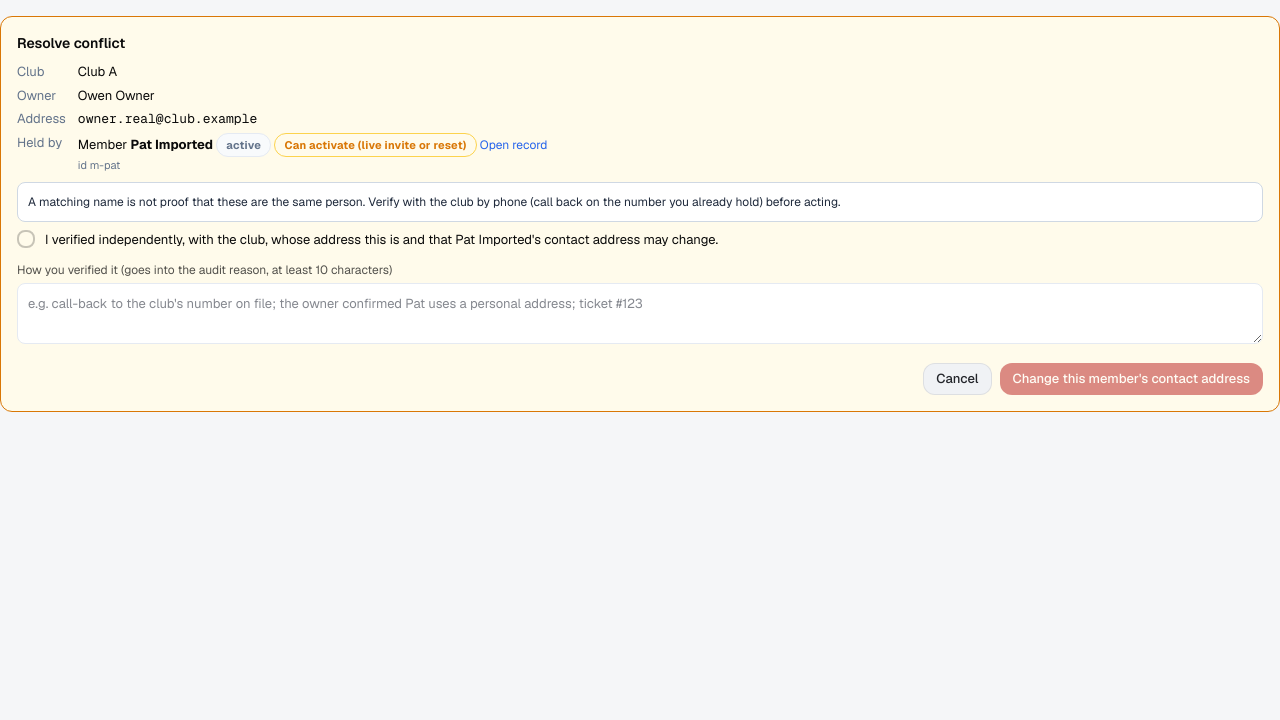
Test: ConflictPanel › lost response: nothing is retried automatically; the operator re-sends the SAME grant (no new code)
Click the checkbox at (26, 238), box [17,230,35,248]
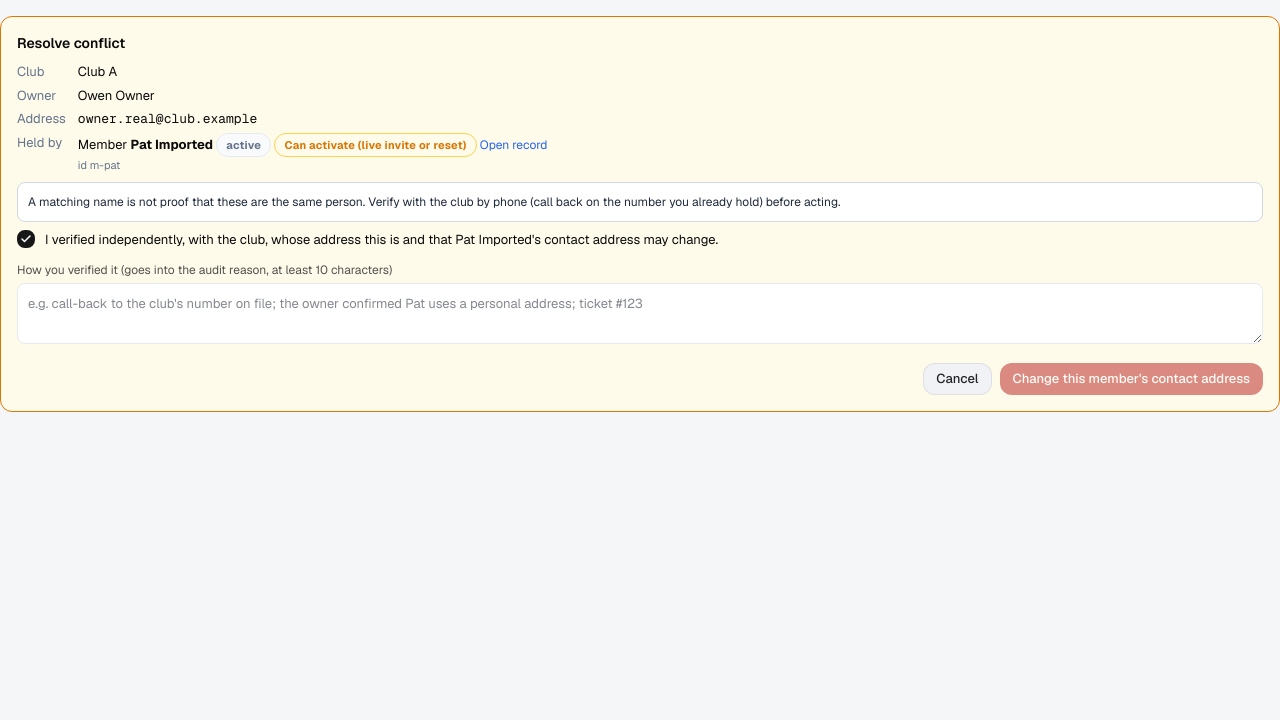
Replace the text in the text box labelled "How you verified it" with "call-back to the club number on file, ticket 41" at (640, 314), box [17,283,1263,344]
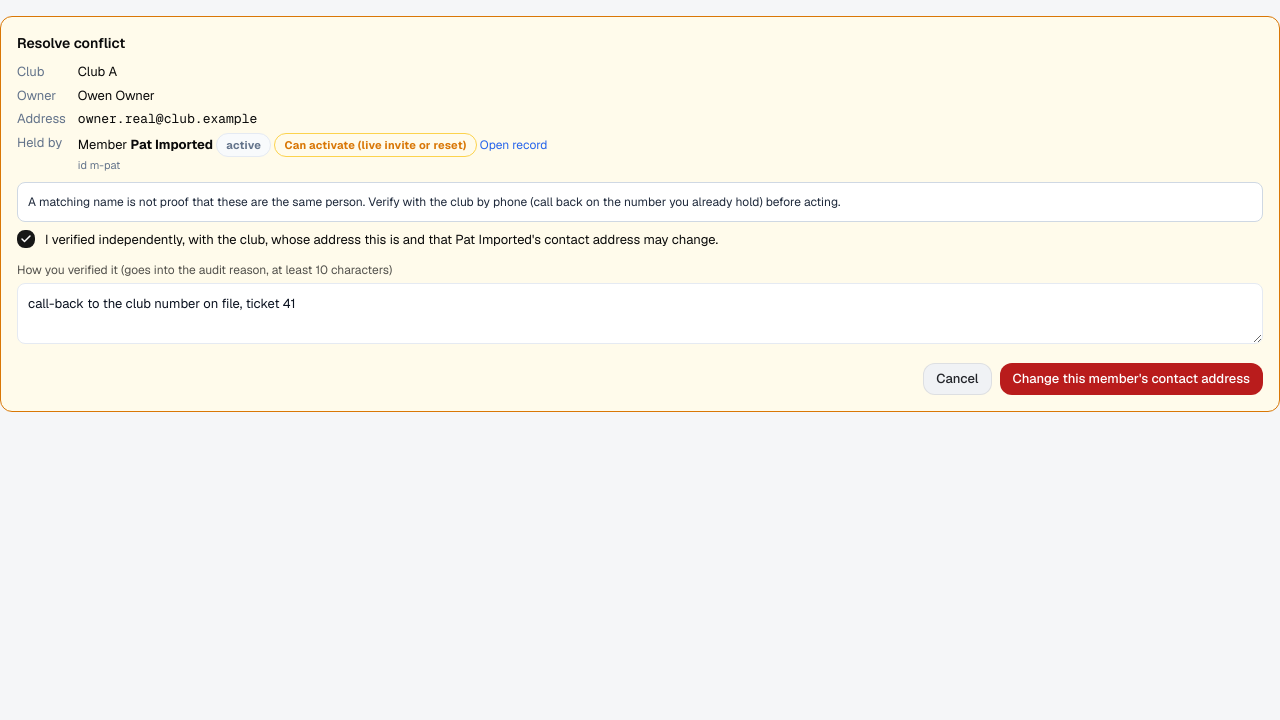
Click the button "Change this member's contact address" at (1131, 379), box [1000,363,1263,395]
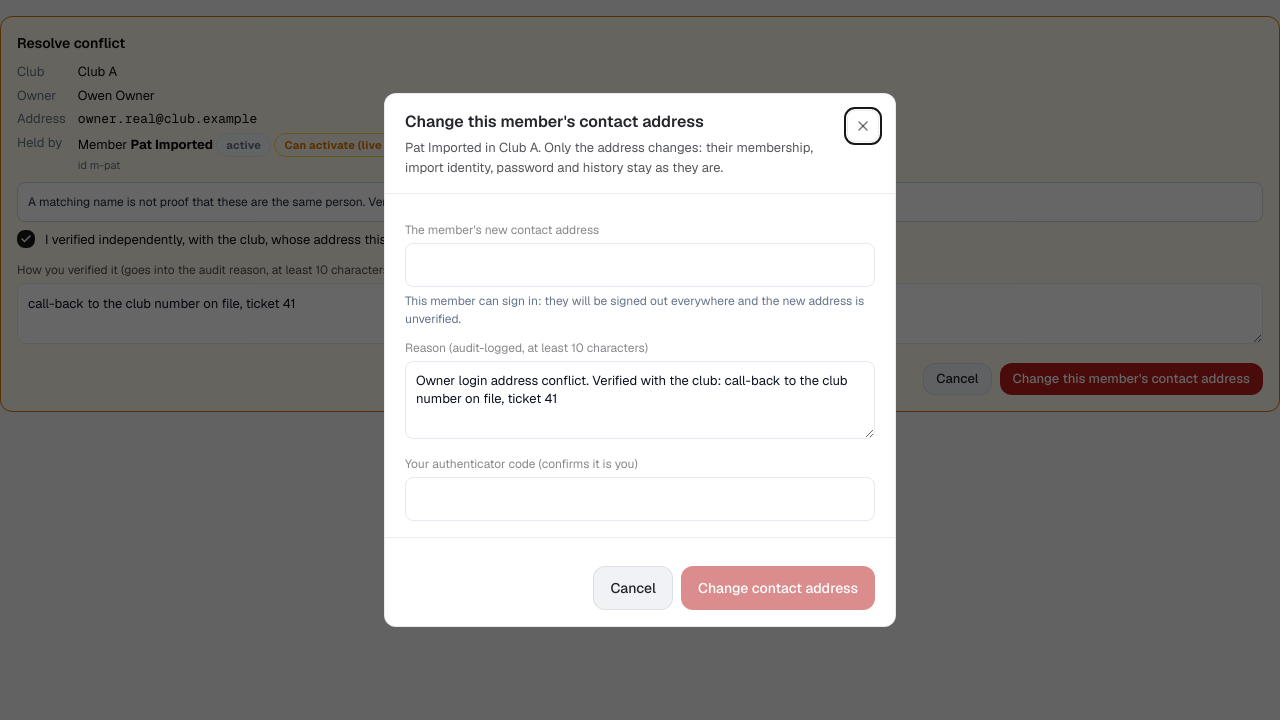
Type "pat.personal@club.example" into the field labelled "The member's new contact address" at (640, 265), box [405,243,875,287]
Type "123456" into the field labelled "Your authenticator code (confirms it is you)" at (640, 499), box [405,477,875,521]
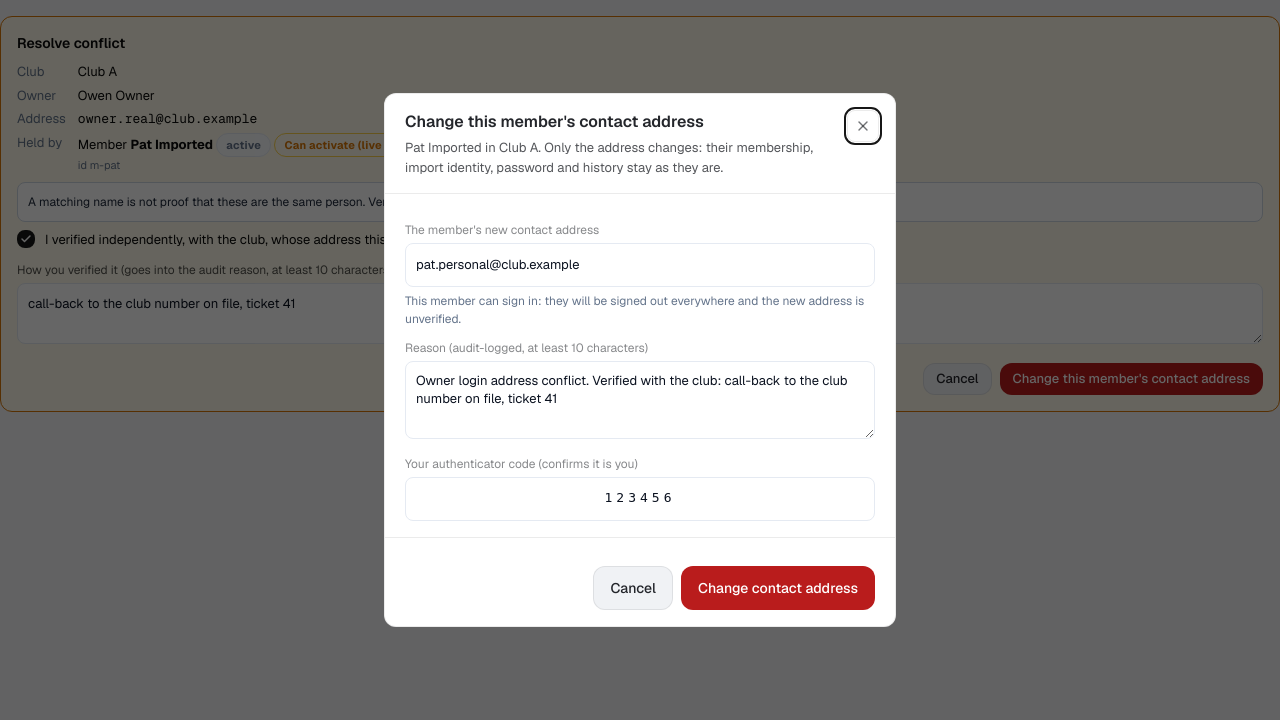
Click the button "Change contact address" at (778, 588), box [681,566,875,610]
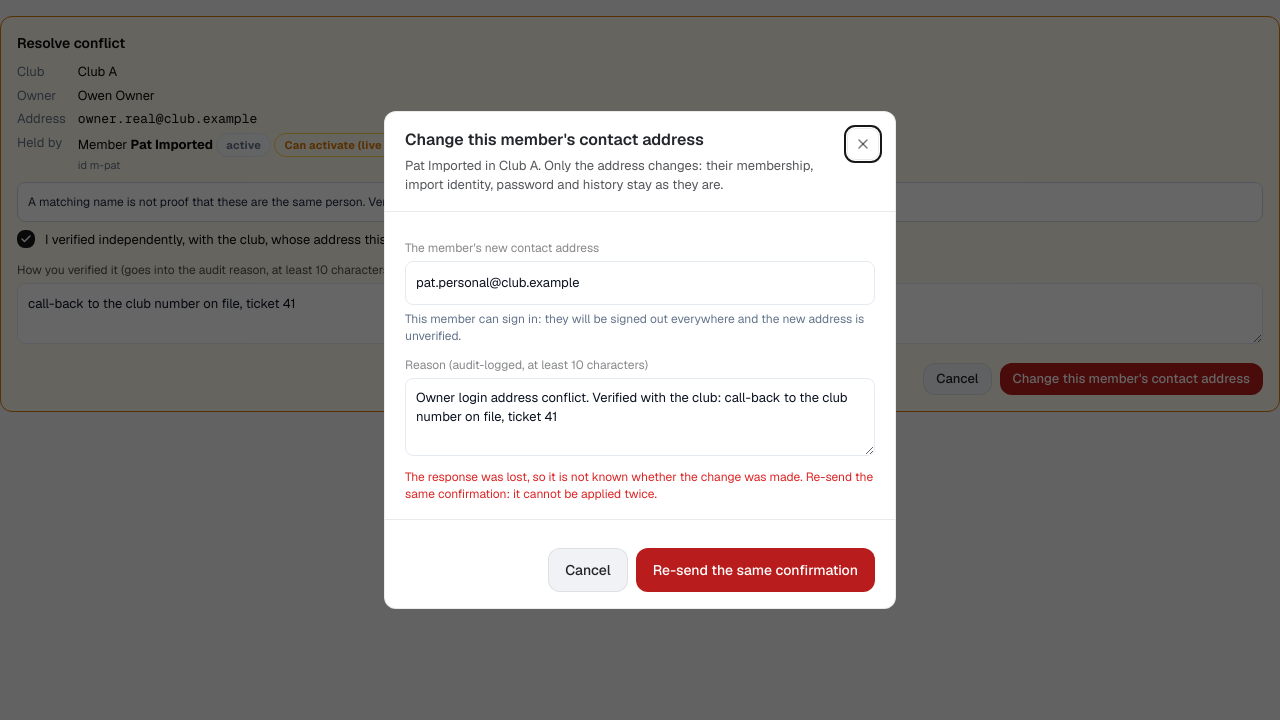
Check: the text "The response was lost" is shown, box [405,469,873,502]
Click the button "Re-send the same confirmation" at (755, 570), box [636,548,875,592]
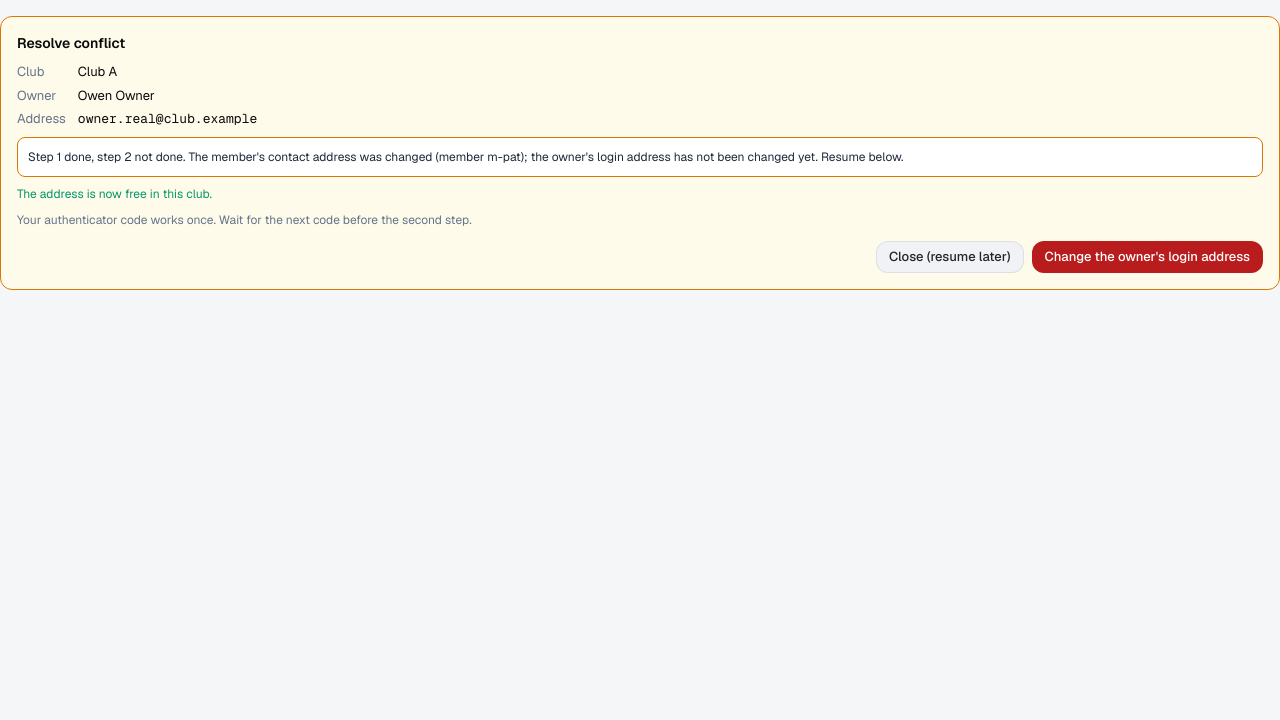
Check: the text "The address is now free in this club." is shown, box [17,186,212,202]
